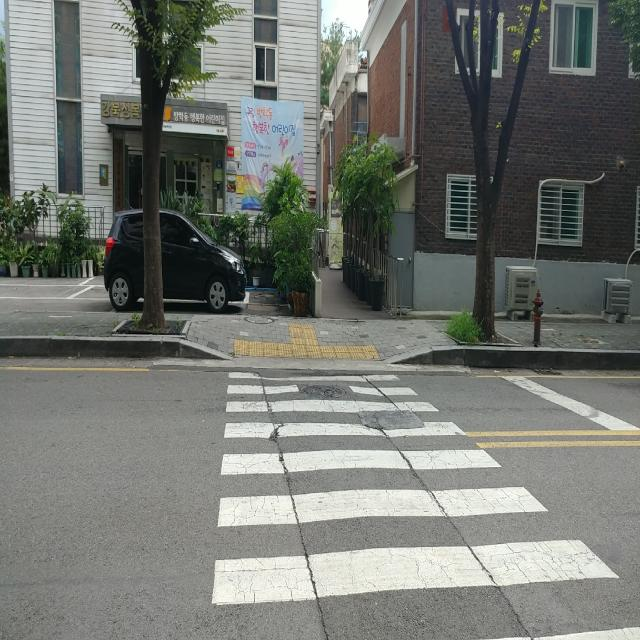횡단보도: (211, 370, 639, 640)
